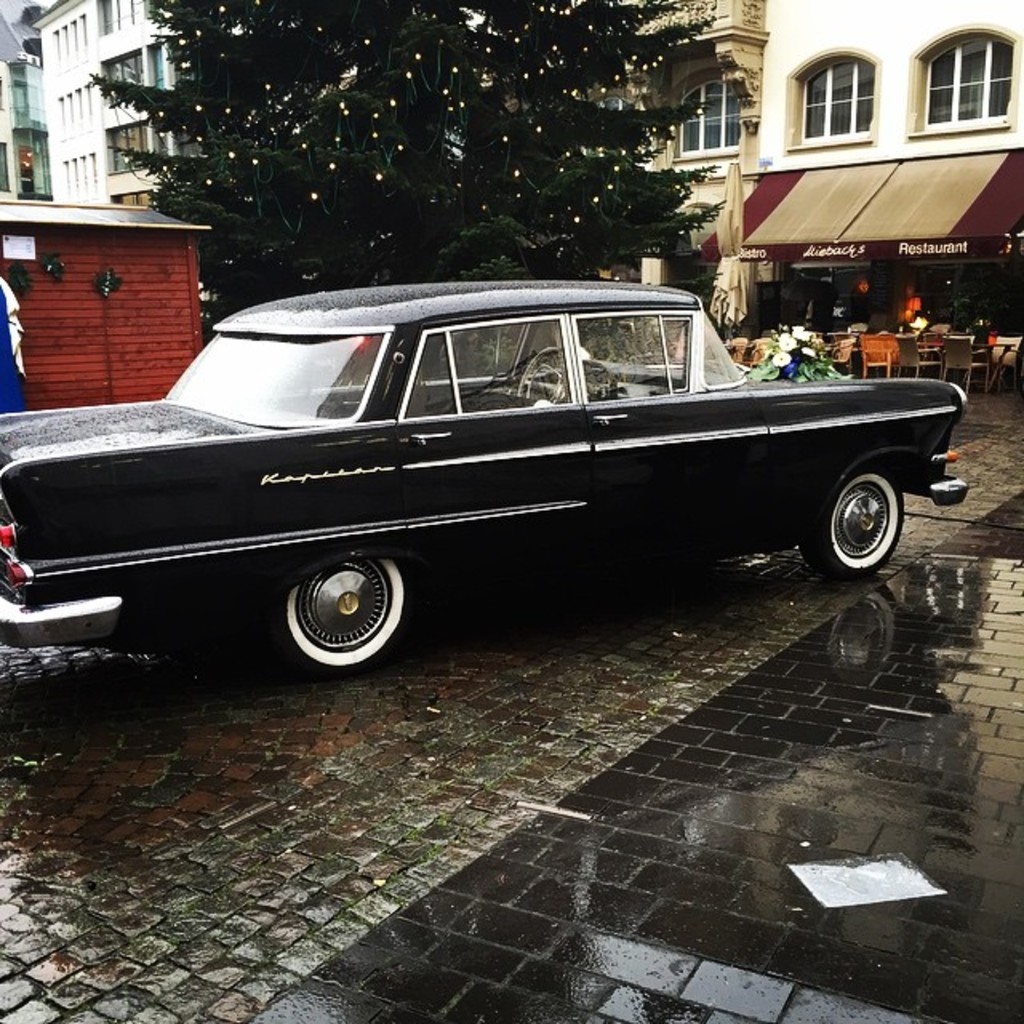Car: (0, 279, 969, 678)
